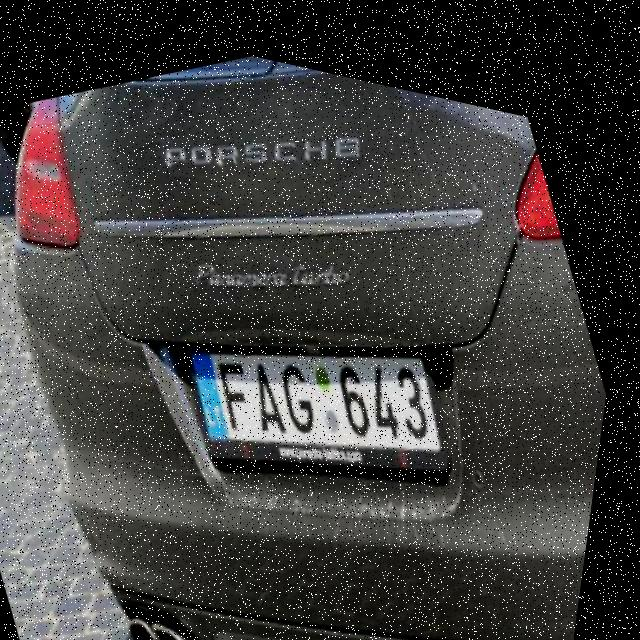license_plate: (171, 239, 484, 542)
